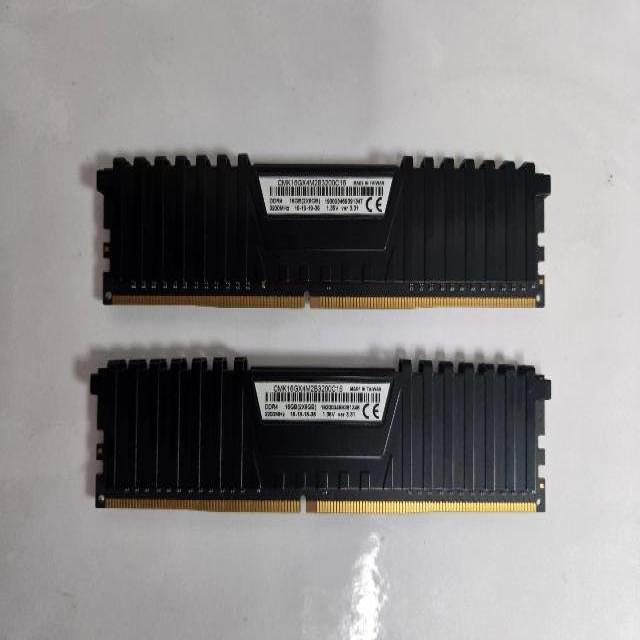RAM: (90, 356, 554, 515), (96, 152, 552, 311)
